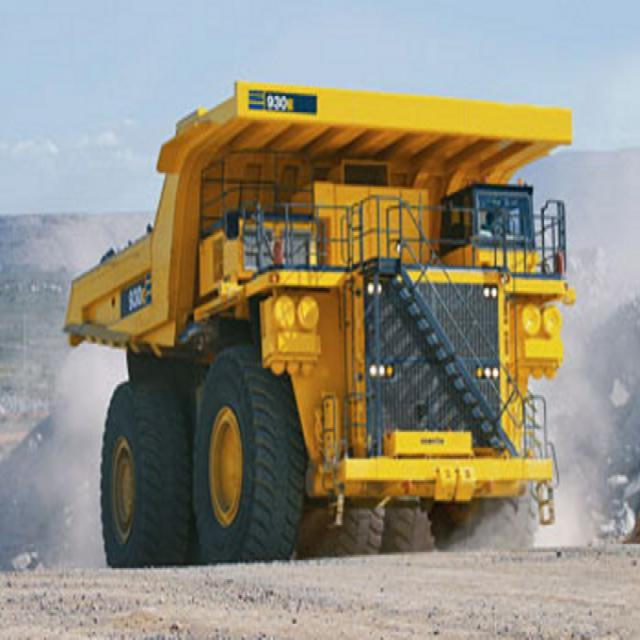dump_truck: (59, 64, 586, 563)
